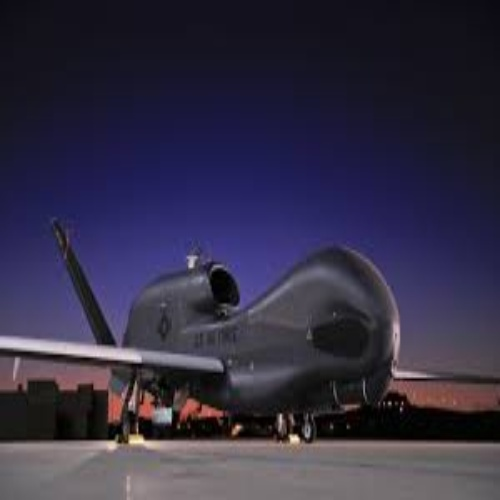uav: (4, 210, 493, 443)
